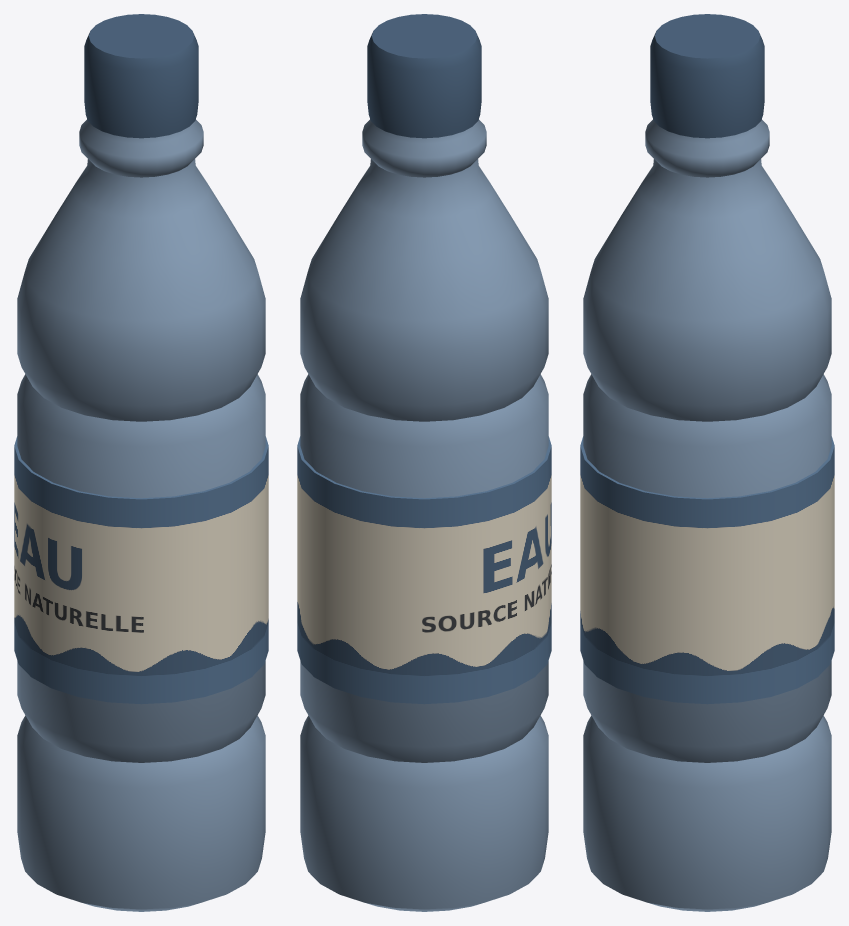
File: bouteille_eau.glb
The picture shows the model from 3 angles, left to right: view 1: azimuth 30°, elevation 25°; view 2: azimuth 150°, elevation 25°; view 3: azimuth 270°, elevation 25°; orthographic projection.
Parts seen in each view (by area): view 1: BOU_Ardoise_Clair, BOU_Etiquette, BOU_Ardoise_Fonce; view 2: BOU_Ardoise_Clair, BOU_Etiquette, BOU_Ardoise_Fonce; view 3: BOU_Ardoise_Clair, BOU_Etiquette, BOU_Ardoise_Fonce.
Part boxes in pixels (x1,y1,x2,y2): BOU_Ardoise_Clair: (17,119,265,911); BOU_Etiquette: (14,436,268,704); BOU_Ardoise_Fonce: (84,14,198,138); BOU_Ardoise_Clair: (300,119,548,911); BOU_Etiquette: (297,436,551,704); BOU_Ardoise_Fonce: (367,14,481,138); BOU_Ardoise_Clair: (583,119,831,911); BOU_Etiquette: (580,436,834,704); BOU_Ardoise_Fonce: (650,14,764,138).
Bounding box in the file's own units: 0.0676 × 0.245 × 0.0676.
3 materials, 1 textured.
